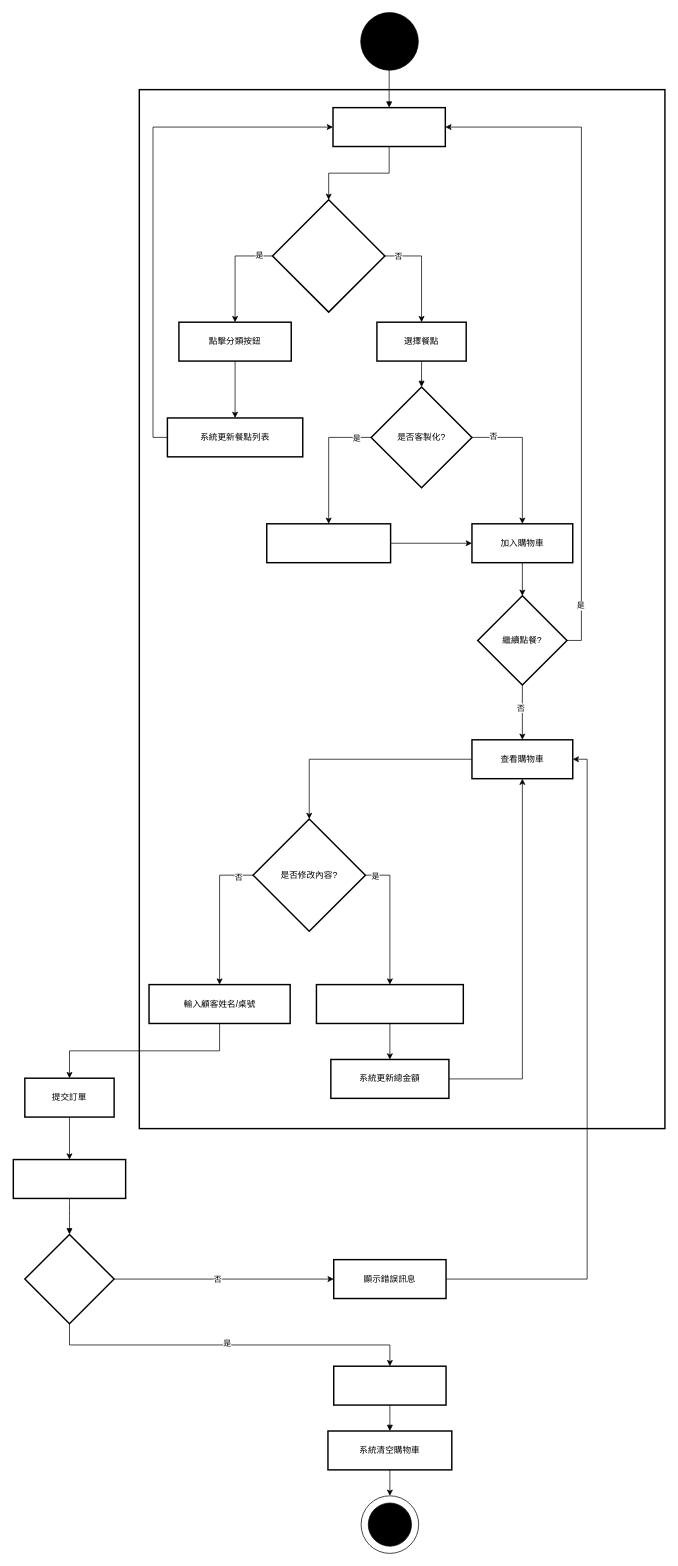
The diagram is 678 pixels wide and 1566 high, and some of its shapes have lost their labels. Each missing label, with the centre of its shape:
"修改數量或移除項目" belongs at point 389,1004.
"勾選客製化選項" belongs at point 328,543.
"是否篩選分類?" belongs at point 328,255.
"瀏覽餐點列表" belongs at point 389,127.
"系統處理訂單" belongs at point 69,1178.
"訂單成功?" belongs at point 69,1278.
"顯示成功訊息" belongs at point 389,1385.
